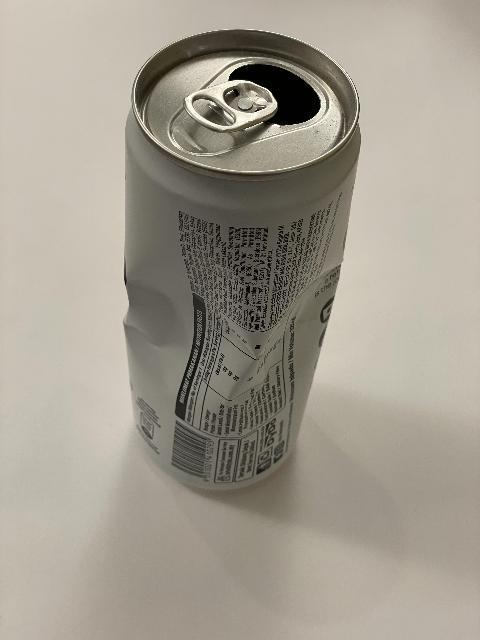drinkcan: (122, 27, 362, 493)
